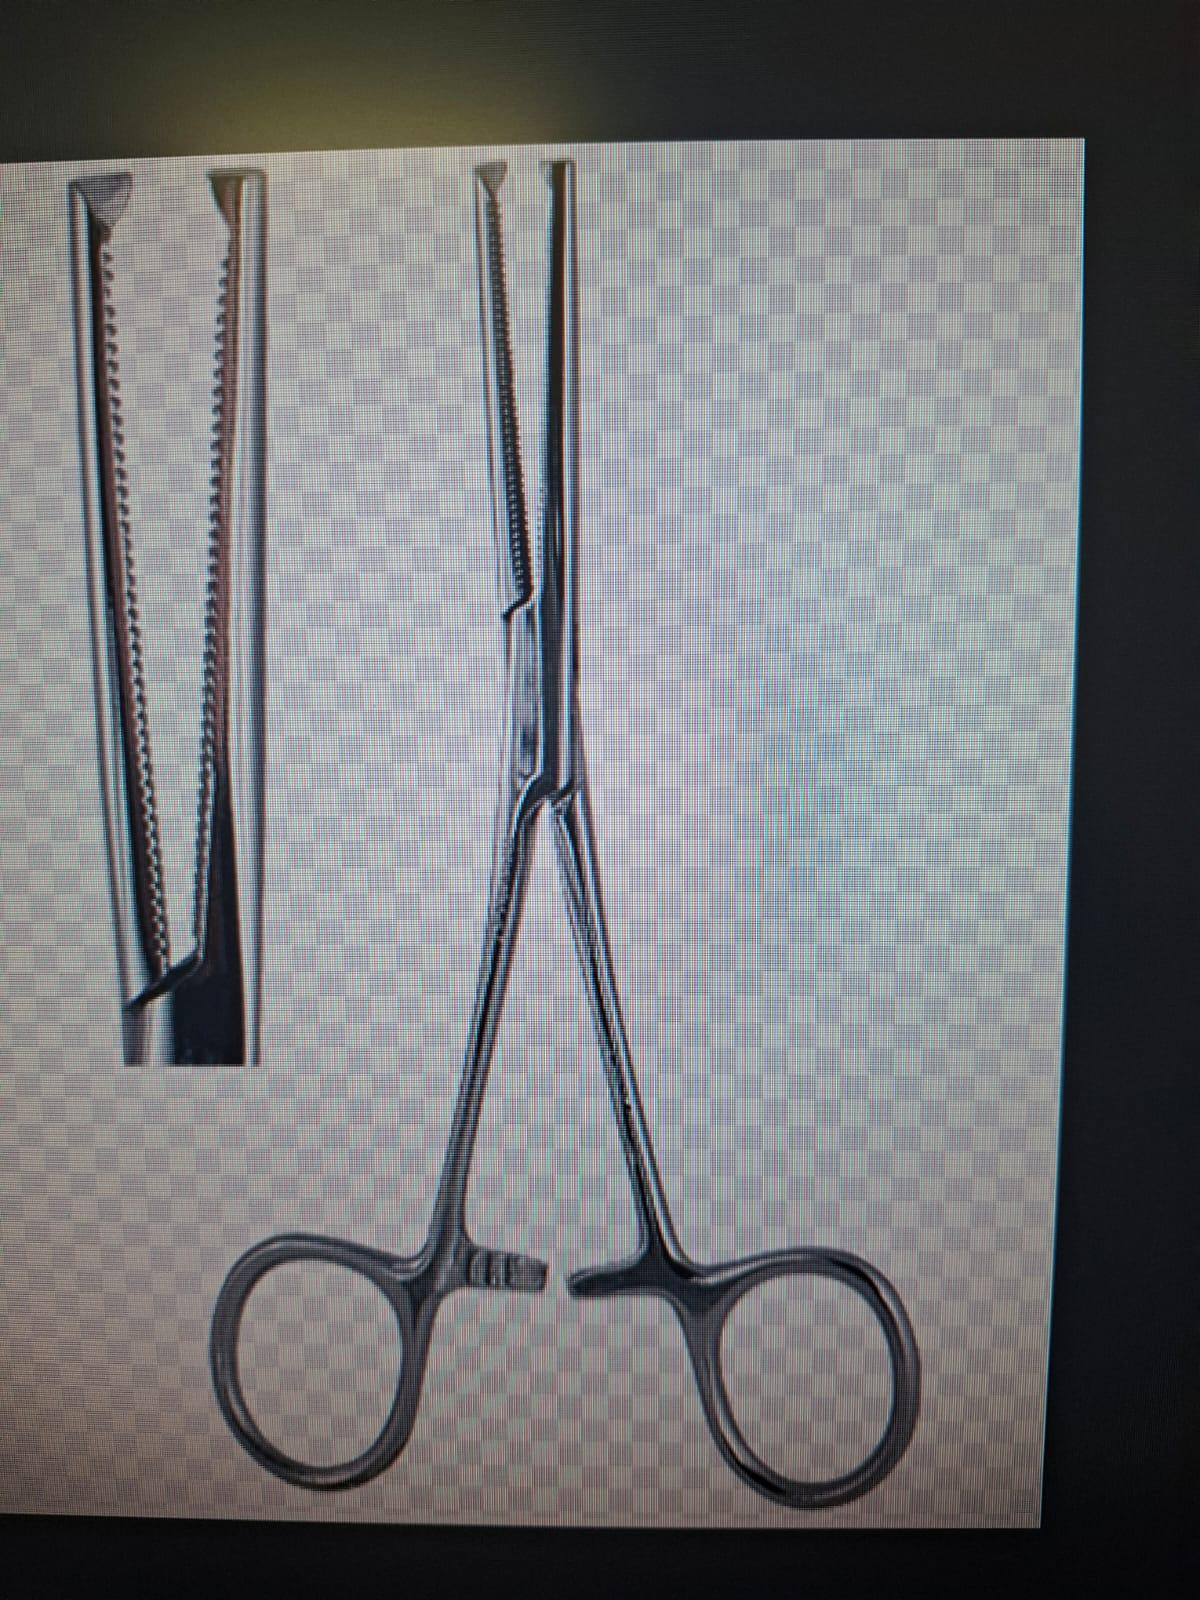Kocher Forceps: (221, 132, 933, 1527)
